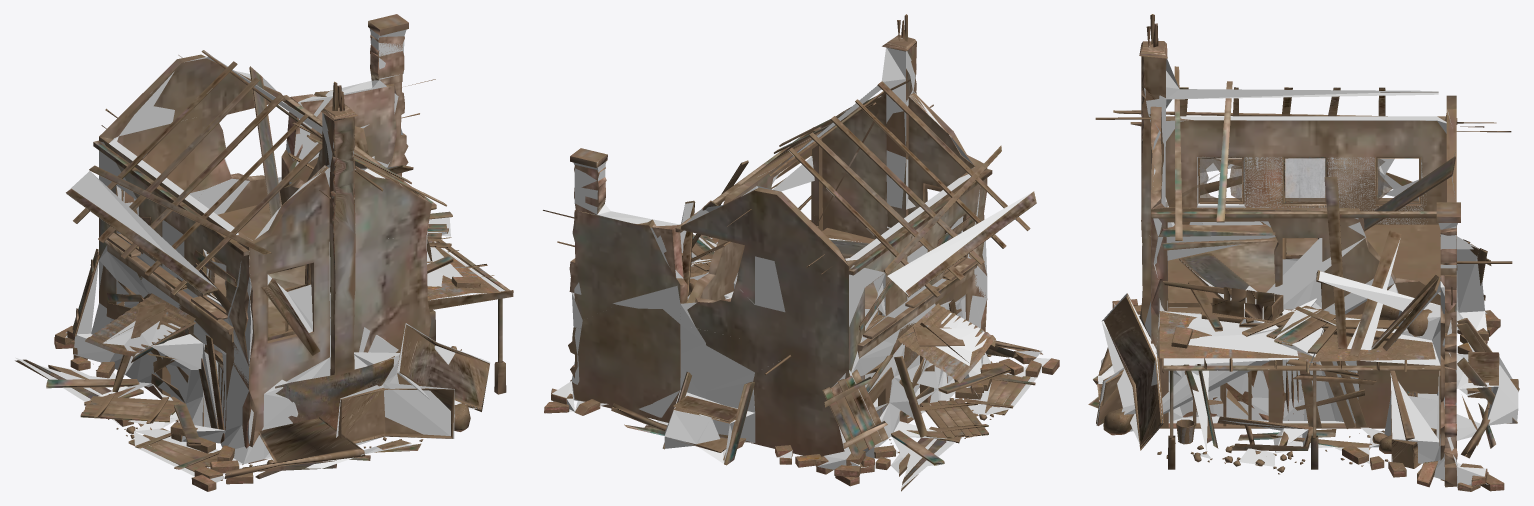
The model's file is church.glb.
The picture shows the model from 3 angles, left to right: view 1: azimuth 30°, elevation 25°; view 2: azimuth 150°, elevation 25°; view 3: azimuth 270°, elevation 25°; orthographic projection. The views are drawn at different scales.
Visible parts, largest first — view 1: XI_BL_H_Church_Home_Mat, XI_BL_H_Church_Woodplanks_Mat, COL, XI_BL_H_Church_Stones_Cubes_Mat, XI_BL_H_Church_Curtain_Mat, XI_BL_H_Church_Metal_Mat; view 2: XI_BL_H_Church_Home_Mat, COL, XI_BL_H_Church_Woodplanks_Mat, XI_BL_H_Church_Stones_Cubes_Mat, XI_BL_H_Church_Metal_Mat; view 3: XI_BL_H_Church_Home_Mat, XI_BL_H_Church_Woodplanks_Mat, COL, XI_BL_H_Church_Stones_Cubes_Mat, XI_BL_H_Church_Metal_Mat, XI_BL_H_Church_Glass_Mat, XI_BL_H_Church_Curtain_Mat.
Boxes of the visible parts, x1,y1,x2,y2 form: XI_BL_H_Church_Home_Mat: (99, 14, 435, 463); XI_BL_H_Church_Woodplanks_Mat: (15, 50, 513, 478); COL: (15, 21, 504, 482); XI_BL_H_Church_Stones_Cubes_Mat: (54, 276, 480, 491); XI_BL_H_Church_Curtain_Mat: (218, 356, 394, 430); XI_BL_H_Church_Metal_Mat: (85, 238, 500, 356); XI_BL_H_Church_Home_Mat: (543, 14, 987, 456); COL: (550, 38, 1050, 488); XI_BL_H_Church_Woodplanks_Mat: (611, 79, 1042, 491); XI_BL_H_Church_Stones_Cubes_Mat: (544, 272, 1059, 486); XI_BL_H_Church_Metal_Mat: (690, 220, 995, 417); XI_BL_H_Church_Home_Mat: (1095, 14, 1512, 487); XI_BL_H_Church_Woodplanks_Mat: (1088, 66, 1519, 469); COL: (1096, 46, 1518, 489); XI_BL_H_Church_Stones_Cubes_Mat: (1103, 299, 1504, 491); XI_BL_H_Church_Metal_Mat: (1159, 311, 1435, 444); XI_BL_H_Church_Glass_Mat: (1166, 158, 1418, 207); XI_BL_H_Church_Curtain_Mat: (1140, 306, 1303, 420).
Size of the model in its own units: 8.5 by 7.04 by 7.43.
Materials: 6 (6 with a texture image).
